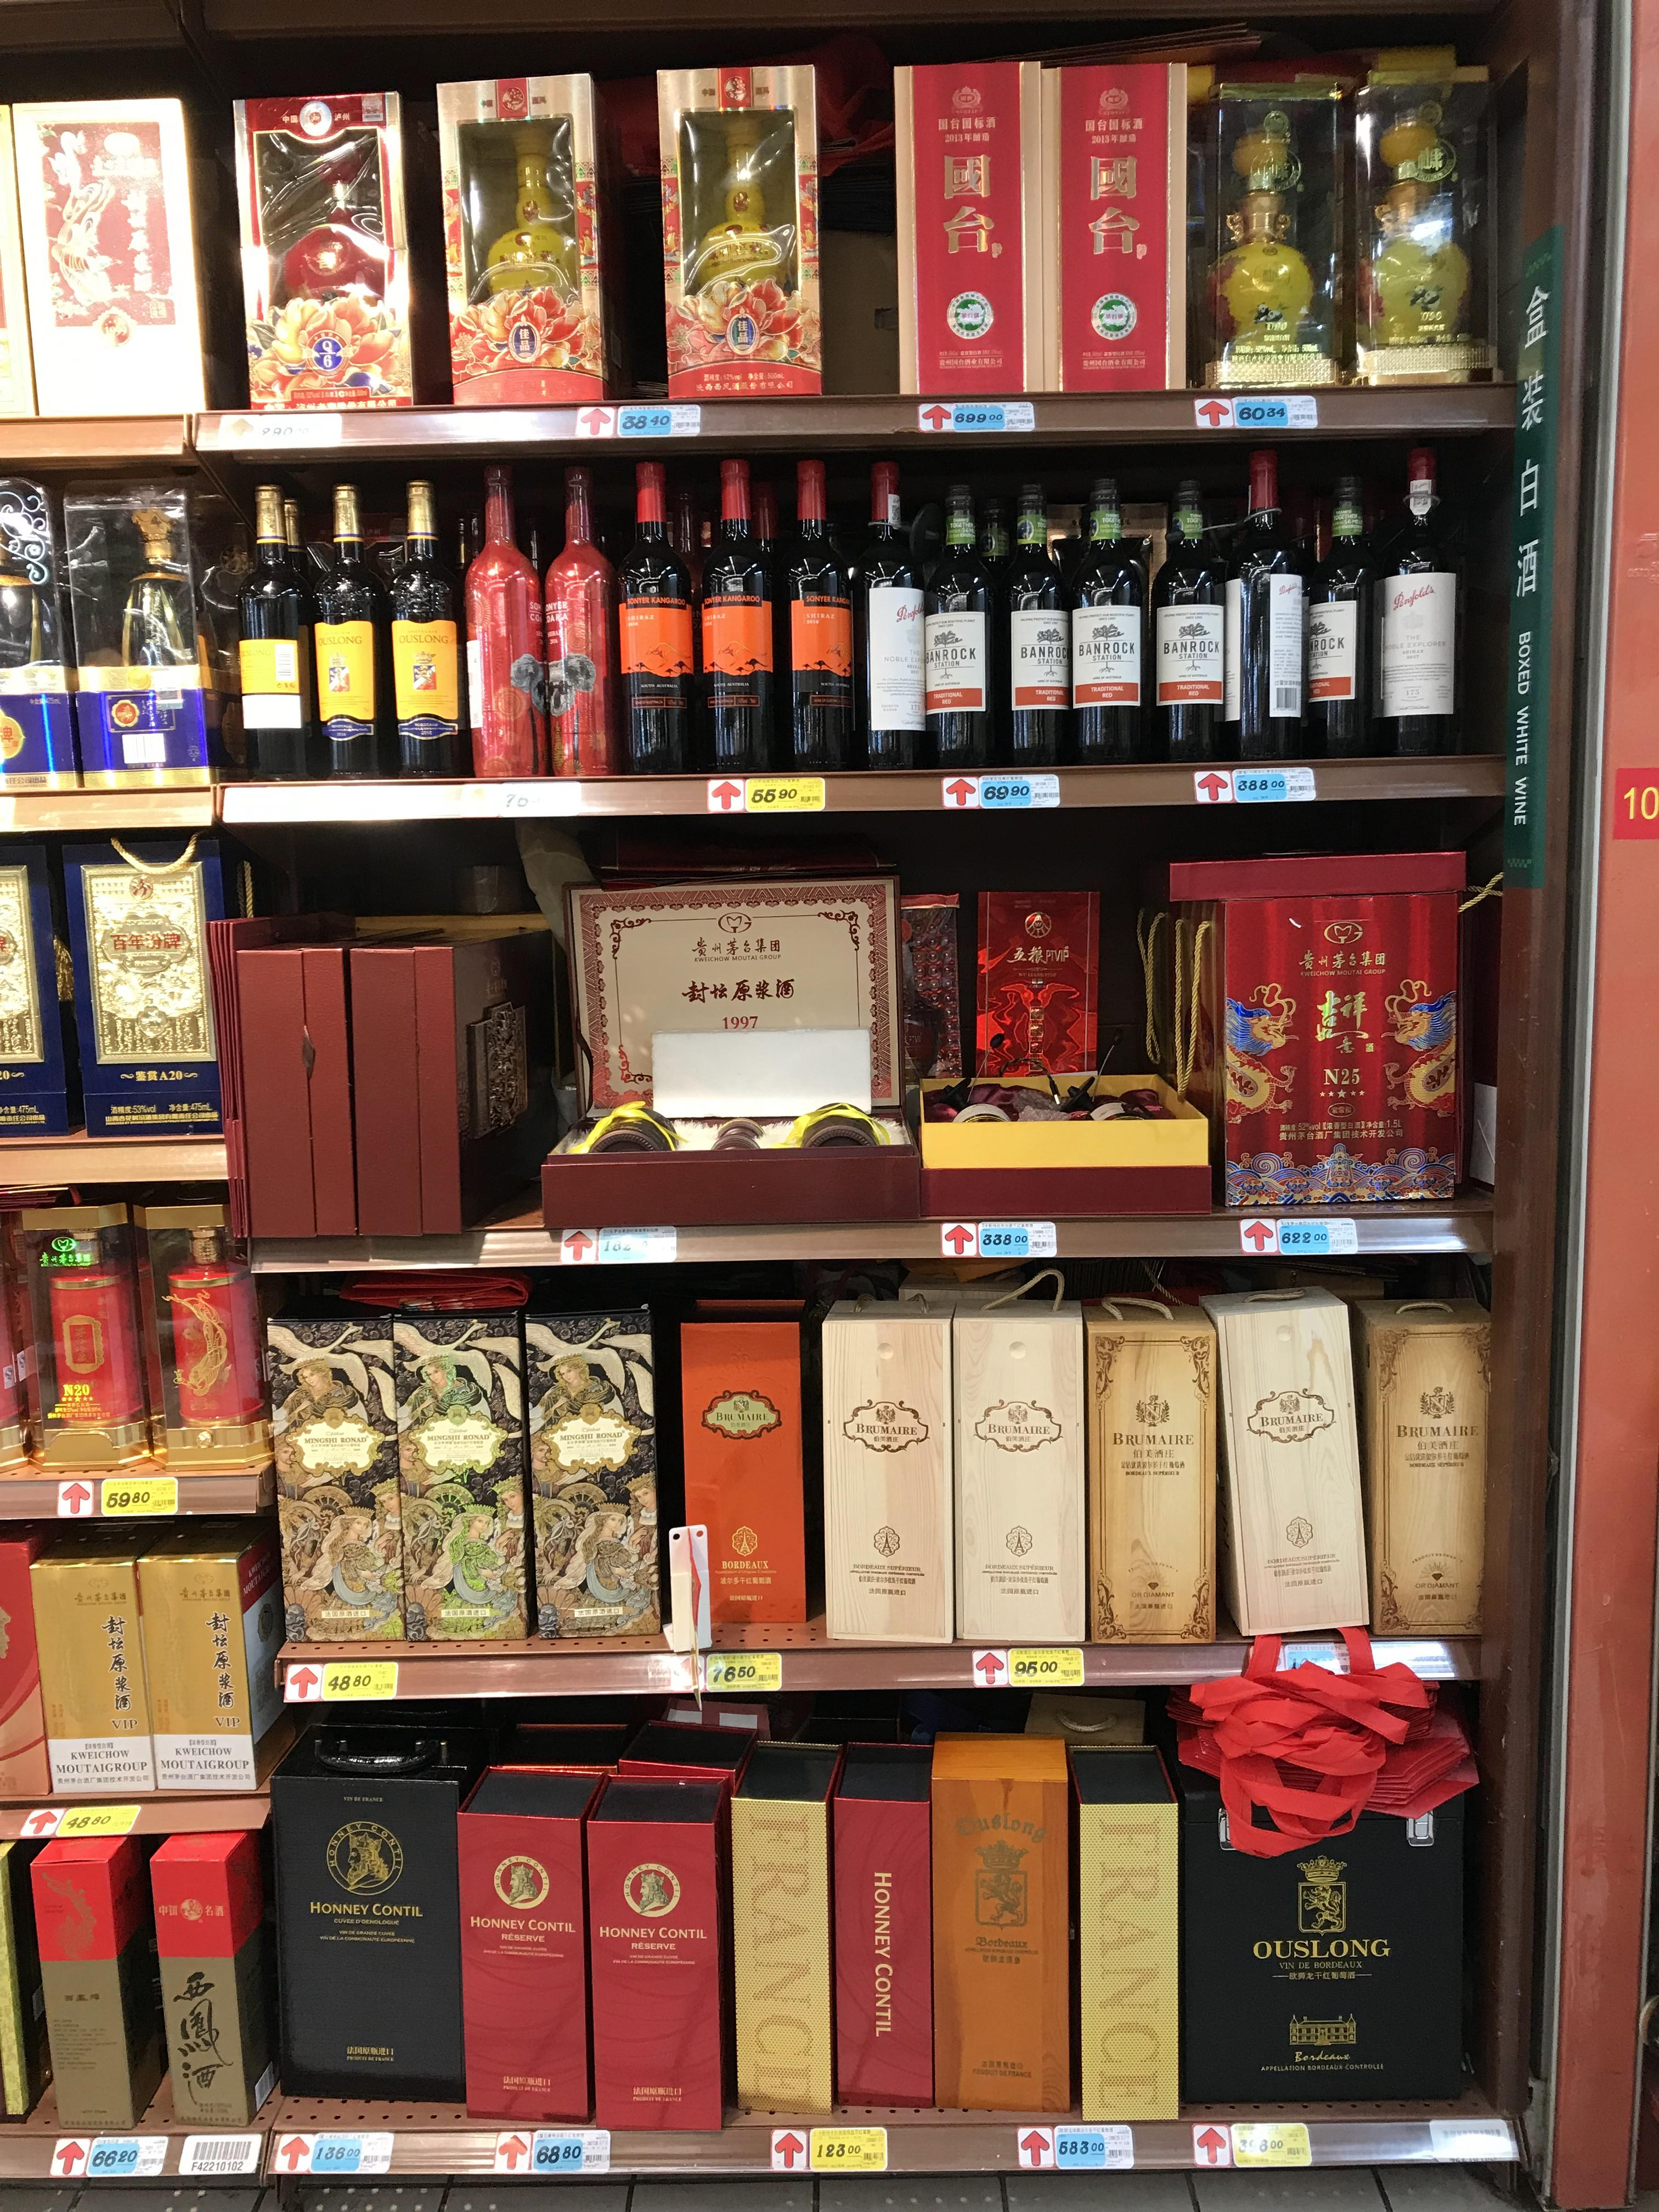bottle: (1347, 64, 1511, 390), (894, 54, 1047, 395), (1037, 61, 1190, 388), (1197, 78, 1347, 394), (610, 467, 697, 779), (1371, 453, 1459, 761), (462, 469, 547, 777), (1222, 449, 1307, 756), (775, 463, 857, 779), (695, 460, 777, 773), (542, 475, 626, 782), (383, 481, 469, 780), (307, 489, 389, 782), (1145, 482, 1230, 761), (234, 489, 314, 782), (920, 488, 1000, 768), (1068, 479, 1147, 765), (856, 467, 929, 770), (999, 482, 1072, 765), (1300, 481, 1373, 758)
box: (270, 1698, 464, 2087), (343, 921, 551, 1242), (30, 105, 237, 421), (645, 61, 816, 395), (1208, 1282, 1364, 1644), (444, 77, 605, 411), (669, 1298, 823, 1641), (521, 1306, 667, 1653), (389, 1312, 533, 1658), (805, 1306, 951, 1639), (267, 1308, 408, 1653), (207, 914, 354, 1244), (1356, 1301, 1500, 1632), (75, 819, 228, 1129), (73, 474, 220, 792), (946, 1312, 1082, 1642), (1082, 1310, 1213, 1649), (16, 1200, 159, 1465), (127, 1207, 263, 1477), (979, 873, 1117, 1137), (127, 1538, 281, 1771), (24, 1536, 153, 1782), (0, 843, 96, 1141), (0, 479, 92, 777)
others: (554, 880, 922, 1216), (1133, 848, 1476, 1200), (1197, 1683, 1473, 2107), (908, 1733, 1080, 2111), (565, 1768, 744, 2118), (235, 91, 416, 416), (1047, 1702, 1183, 2107), (451, 1766, 591, 2120), (702, 1756, 845, 2101), (890, 1064, 1213, 1214), (836, 1797, 972, 2111), (150, 1824, 281, 2127), (19, 1841, 155, 2132)
